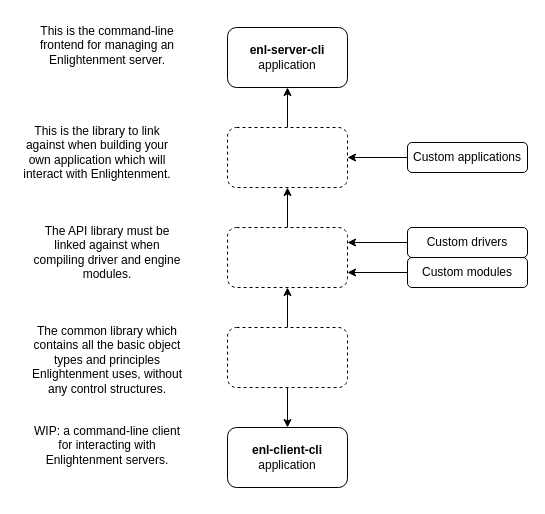
The diagram is 545 pixels wide and 514 high, and some of its shapes have lost their labels. The centre of each missing label's shape, as x and y in pixels:
enl-api library: pixel 287 257
enl-common libary: pixel 287 357
enl-server library: pixel 287 157
